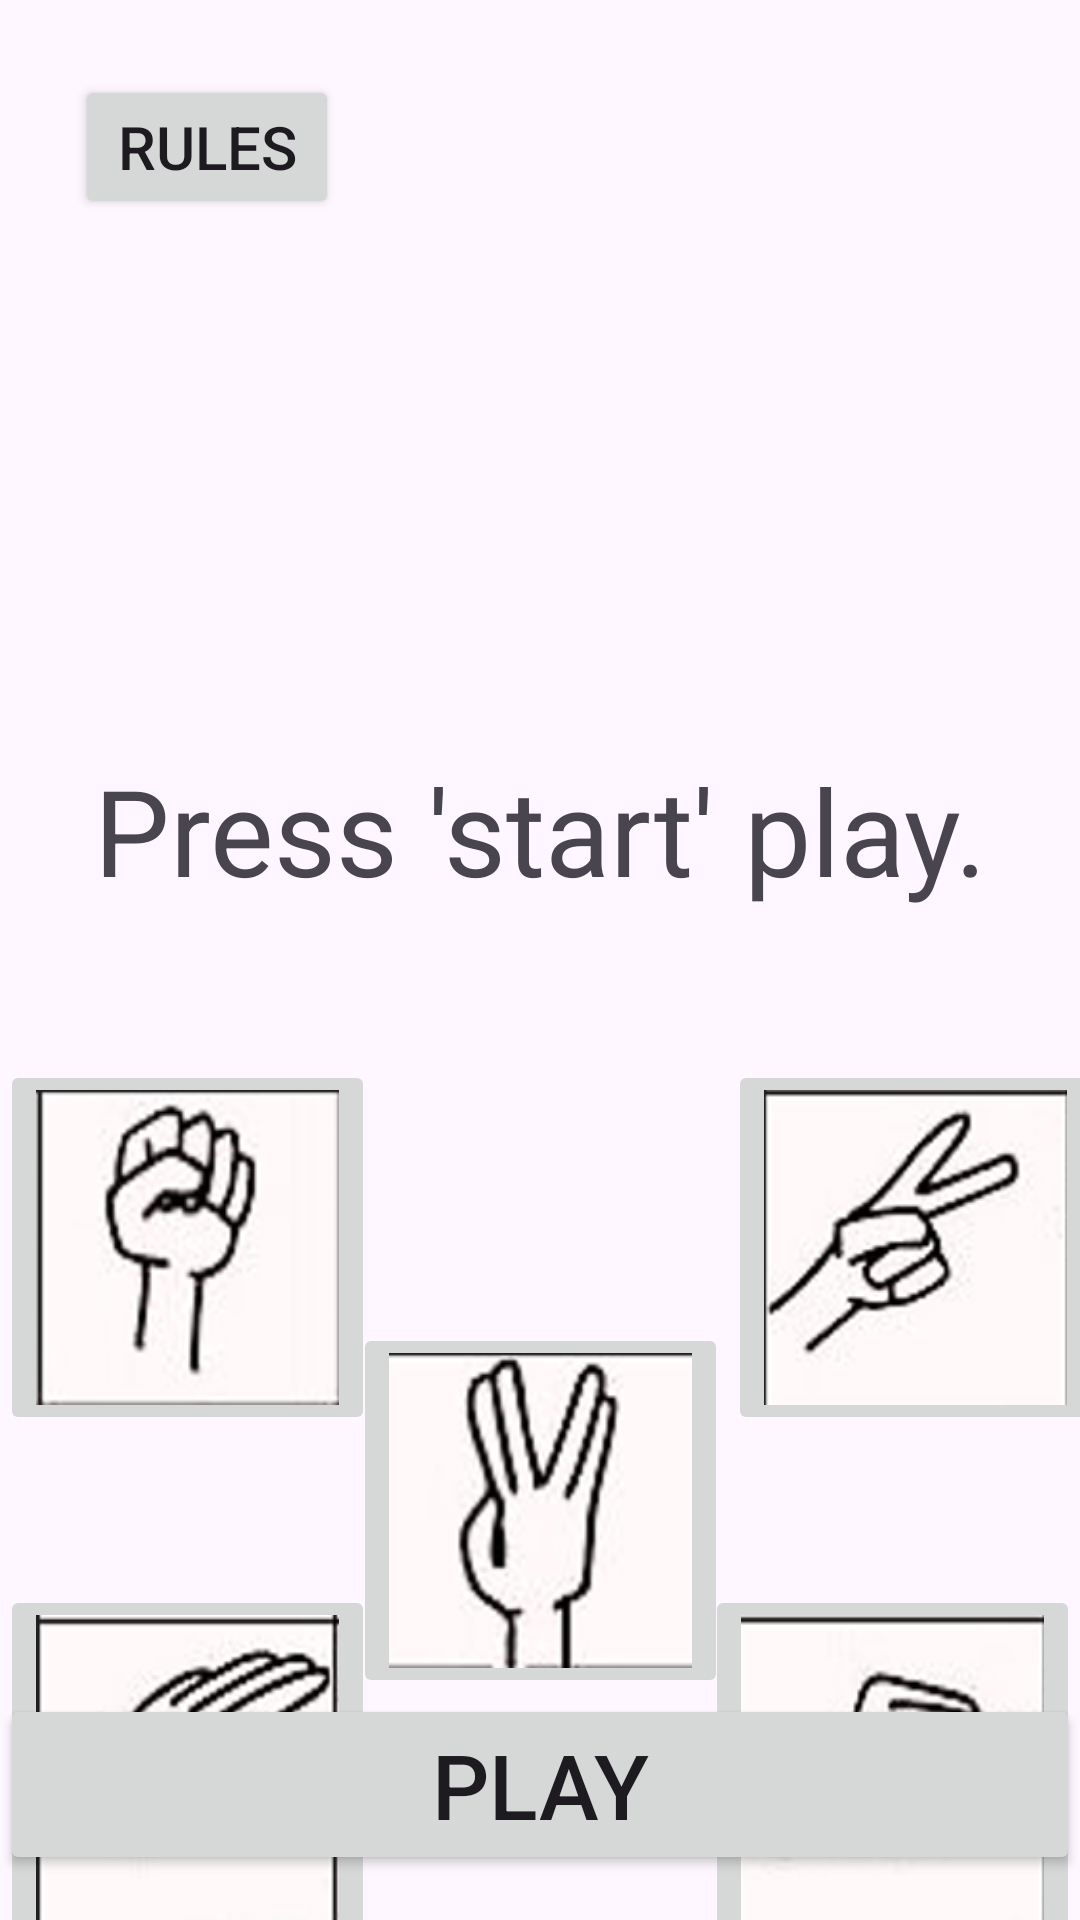

Icon bounding boxes for this 1080px×1920px phone screenshot, format rect(x1, y1, x2, y2):
Rock: rect(12, 1078, 363, 1417)
Scissors: rect(740, 1078, 1080, 1417)
Spok: rect(365, 1341, 716, 1680)
